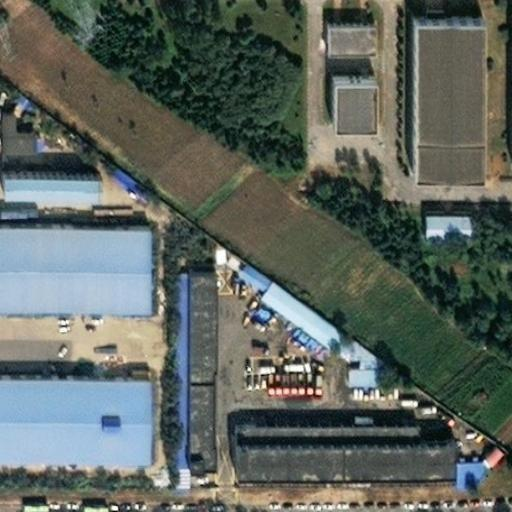building: (0, 211, 134, 300), (406, 4, 472, 163), (223, 428, 441, 460), (248, 268, 331, 336), (175, 261, 202, 455), (319, 320, 377, 375), (223, 413, 405, 428), (105, 160, 156, 203), (0, 165, 84, 190), (325, 64, 365, 108), (314, 15, 362, 41), (412, 203, 459, 227), (209, 242, 246, 272), (477, 440, 506, 468), (446, 452, 476, 475), (20, 498, 49, 512), (80, 499, 110, 512)
